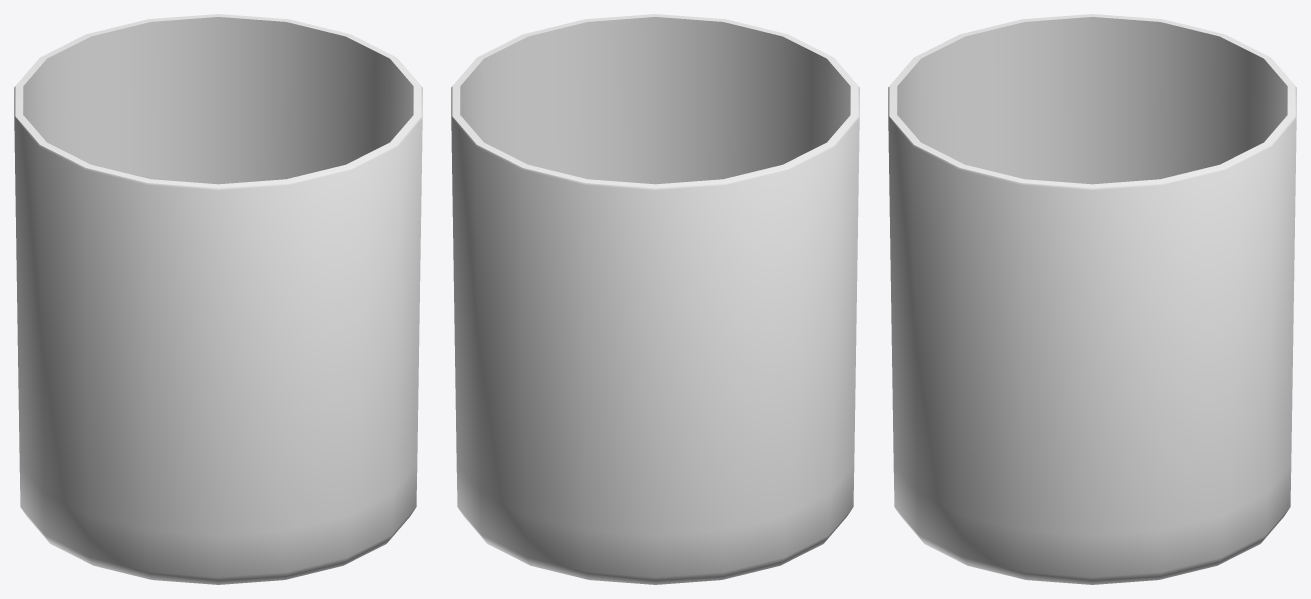
Rendered from Glasses01_4.FBX.
3 renders of one model, left to right at view 1: azimuth 30°, elevation 25°; view 2: azimuth 150°, elevation 25°; view 3: azimuth 270°, elevation 25°, orthographic.
Visible parts, largest first — view 1: Glasses01_4; view 2: Glasses01_4; view 3: Glasses01_4.
Part boxes in pixels (x1,y1,x2,y2): Glasses01_4: [14, 14, 422, 584]; Glasses01_4: [451, 14, 859, 584]; Glasses01_4: [888, 14, 1296, 584].
Bounding box in the file's own units: 11.31 × 12.22 × 11.14.
